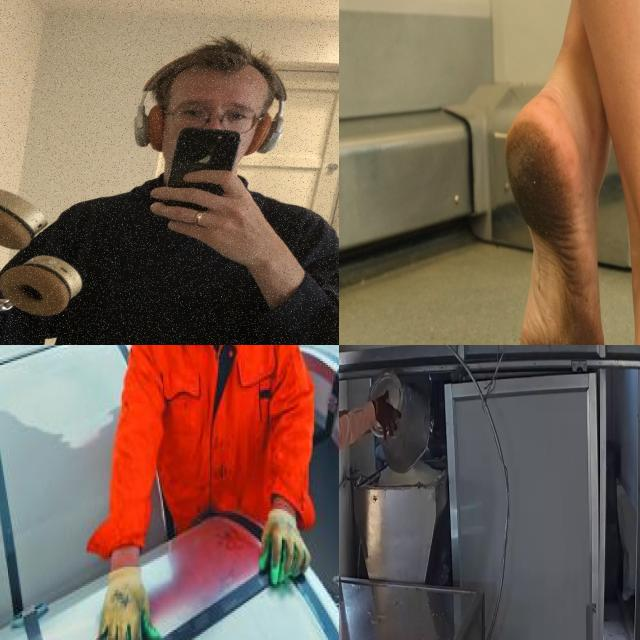Barefoots: (505, 91, 608, 345)
Ear-protection: (104, 101, 304, 160)
glasses: (164, 104, 260, 138)
hand_glove: (99, 548, 162, 640), (260, 507, 311, 585)
hand_noglove: (372, 390, 401, 438)
head_nohelmet: (133, 23, 280, 104)
person: (4, 4, 339, 345)
